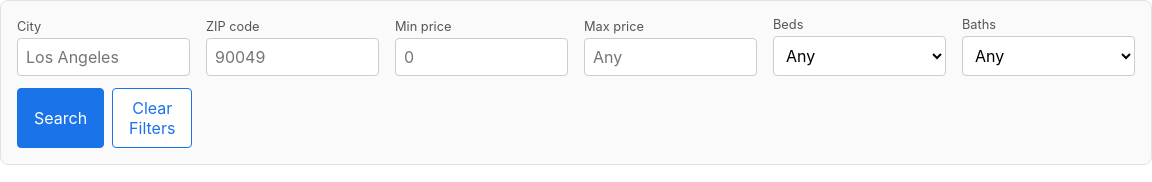
PropertyFilters › resets the form and notifies the parent when Clear Filters is clicked
This screenshot has width=1152, height=182.
Step 1. Type "Portland" into the field labelled "City" → (104, 57), box [17,38,190,76]
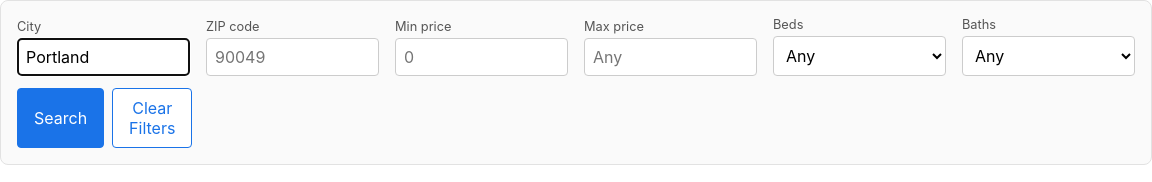
Step 2. Select "3+" in the dropdown labelled "Beds" → (860, 56), box [773,36,946,76]
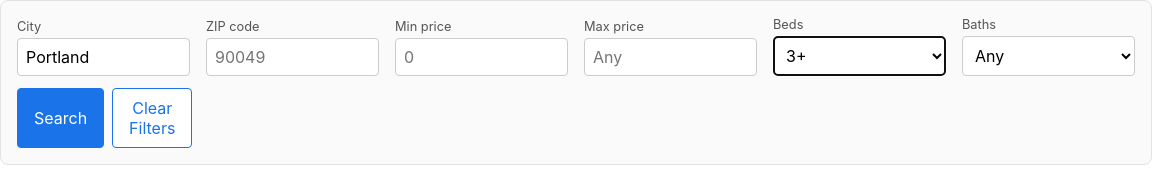
Step 3. Click the button "Clear Filters" → (152, 118), box [112,88,192,148]
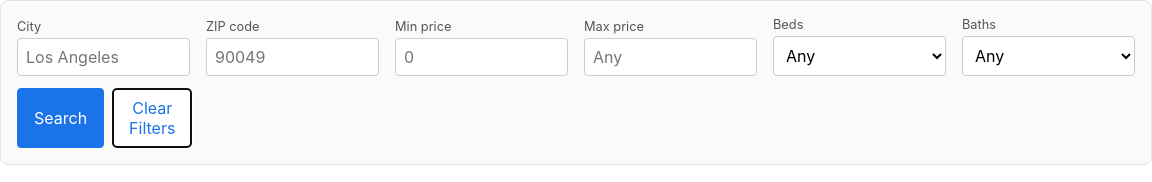
Expected: the field labelled "City" is empty, [17,38,190,76]
